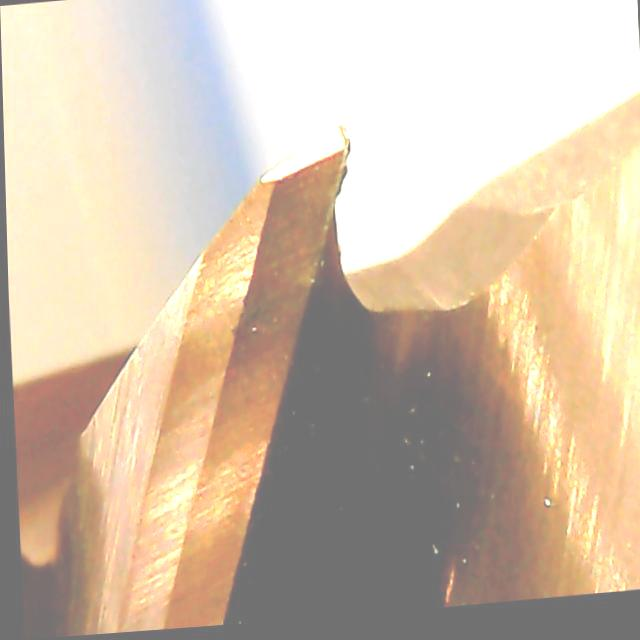Tool-wear-class-1: (214, 112, 369, 315)
